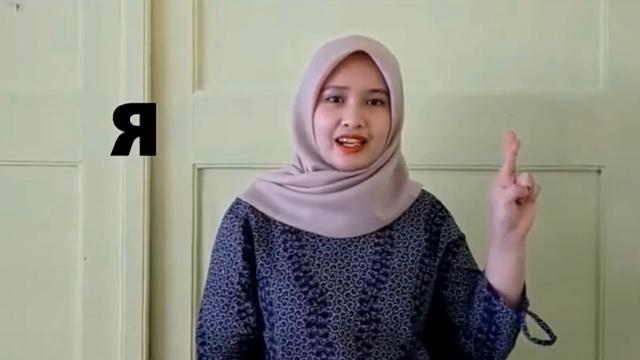R: (484, 130, 546, 236)
